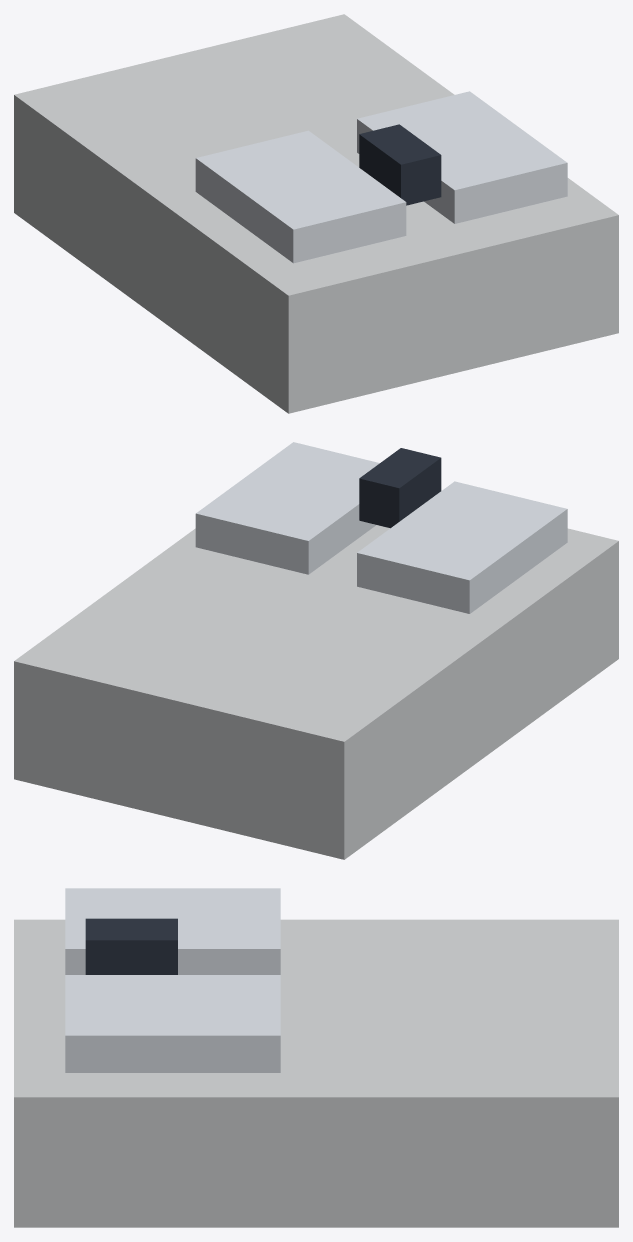
Rendered from mouse.glb.
3 views of the same model, one above another, from view 1: azimuth 30°, elevation 25°; view 2: azimuth 150°, elevation 25°; view 3: azimuth 270°, elevation 25° (orthographic). The views are drawn at different scales.
Parts seen in each view (by area): view 1: mouse body, left button, right button, scroll wheel; view 2: mouse body, left button, right button, scroll wheel; view 3: mouse body, right button, left button, scroll wheel.
Boxes of the visible parts, bbox=[...] form: mouse body: bbox=[14, 14, 618, 413]; left button: bbox=[195, 130, 406, 263]; right button: bbox=[357, 91, 567, 223]; scroll wheel: bbox=[359, 124, 441, 205]; mouse body: bbox=[14, 525, 618, 859]; left button: bbox=[357, 481, 567, 613]; right button: bbox=[195, 442, 379, 574]; scroll wheel: bbox=[359, 448, 441, 528]; mouse body: bbox=[14, 919, 618, 1227]; right button: bbox=[65, 975, 280, 1072]; left button: bbox=[65, 888, 280, 974]; scroll wheel: bbox=[85, 918, 177, 974].
Size of the model in its own units: 0.82 by 0.49 by 1.18.
